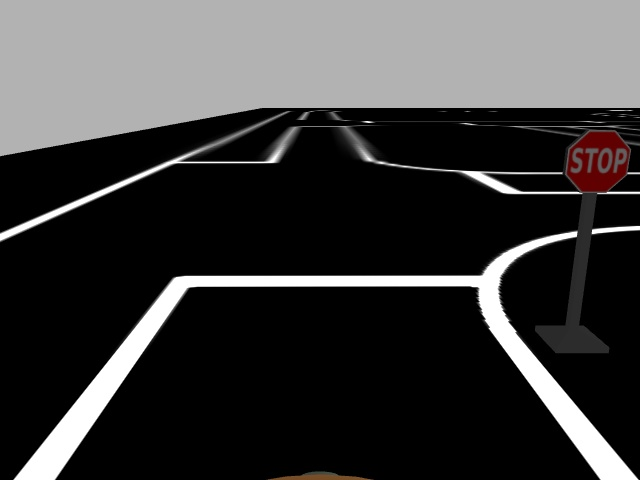stop: (559, 127, 632, 195)
